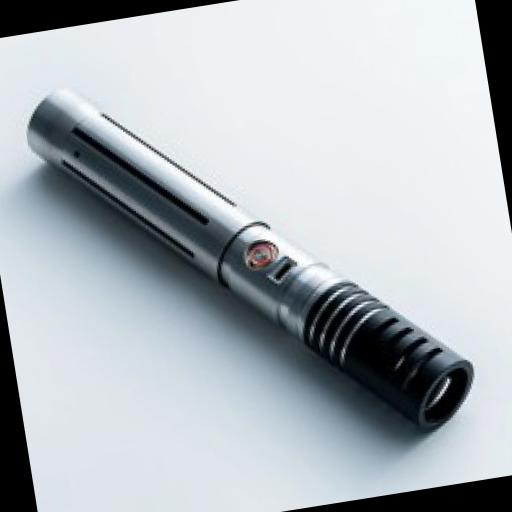lightsaber: (16, 32, 479, 482)
